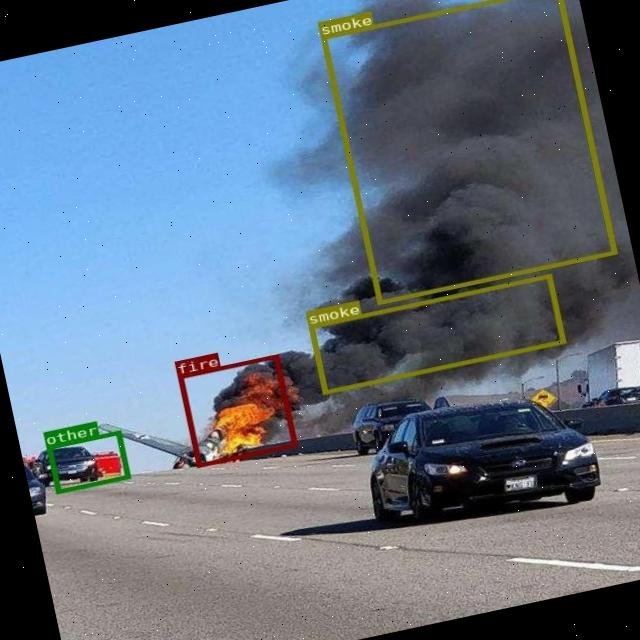fire: (178, 354, 296, 466)
smoke: (319, 0, 615, 304), (308, 273, 564, 393)
